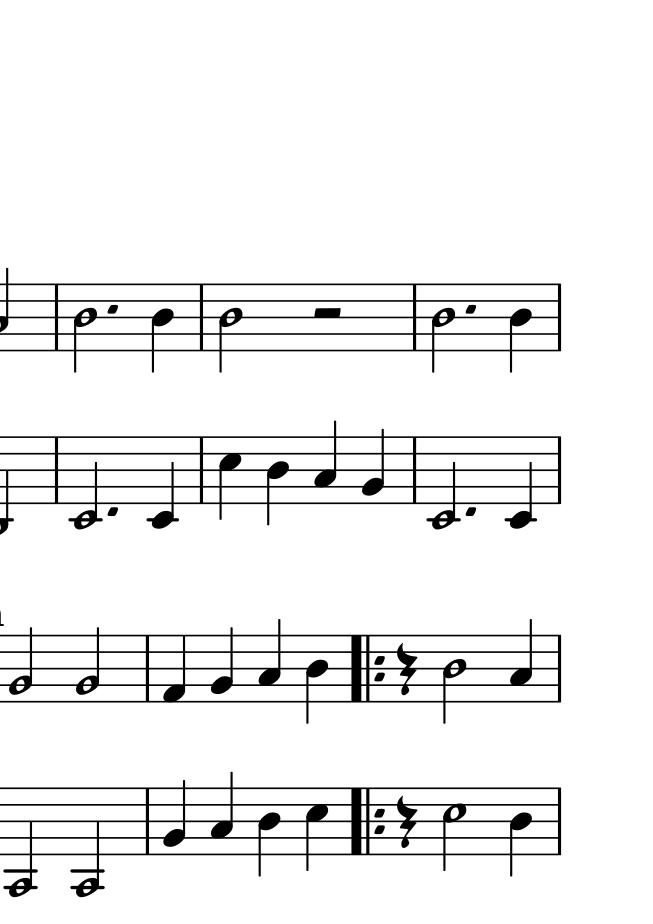2_-2: (70, 433, 101, 532), (430, 435, 457, 530)
2_-4: (4, 785, 35, 898), (72, 784, 102, 899)
2_2: (8, 625, 36, 704), (73, 625, 101, 702)
2_4: (442, 632, 473, 727), (71, 282, 100, 374), (429, 281, 456, 376), (218, 281, 245, 374)
2_5: (442, 787, 468, 872)
4_-2: (150, 433, 177, 530), (507, 435, 534, 529)
4_1: (165, 634, 187, 702)
4_2: (204, 626, 235, 702), (362, 426, 387, 506), (162, 780, 188, 856)
4_3: (255, 618, 283, 707), (312, 420, 338, 505), (508, 619, 534, 704), (211, 770, 236, 856)
4_4: (303, 631, 332, 727), (149, 282, 177, 374), (507, 786, 534, 879), (508, 281, 534, 376), (265, 436, 290, 527), (256, 786, 280, 877)
4_5: (305, 787, 330, 875), (217, 435, 241, 522)
LeftRepeatSign: (348, 633, 388, 702), (348, 786, 387, 855)
Rests2: (311, 304, 345, 327)
Rests4: (396, 646, 419, 697), (397, 793, 416, 851)
Single_barline: (48, 284, 66, 351), (550, 635, 568, 701), (550, 788, 568, 854), (192, 436, 209, 504), (550, 436, 567, 504), (139, 634, 156, 701), (406, 437, 423, 504), (48, 436, 64, 504), (407, 284, 423, 351), (140, 788, 156, 853), (194, 284, 209, 352), (551, 283, 566, 350)
dot: (463, 502, 479, 521), (105, 504, 121, 522), (463, 302, 479, 318), (105, 301, 121, 316)
